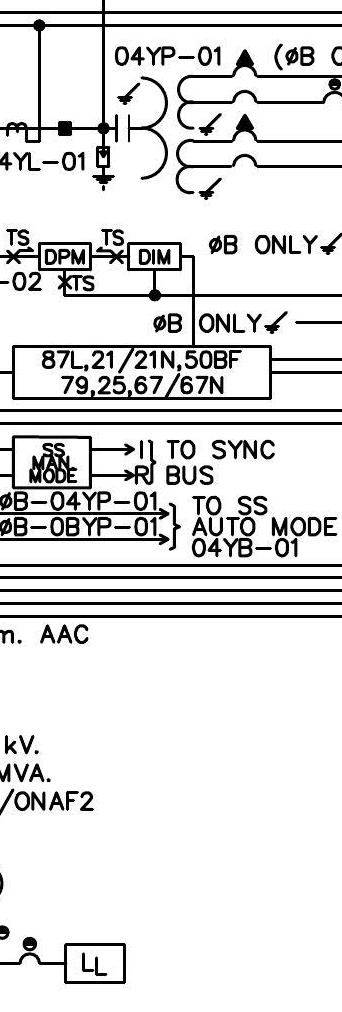115_cvt_1p: (114, 49, 260, 201)
115_la: (91, 146, 116, 192)
DIM: (127, 242, 182, 272)
DPM: (38, 242, 92, 271)
LL: (64, 943, 126, 985)
ss_man_mode: (12, 435, 92, 490)
